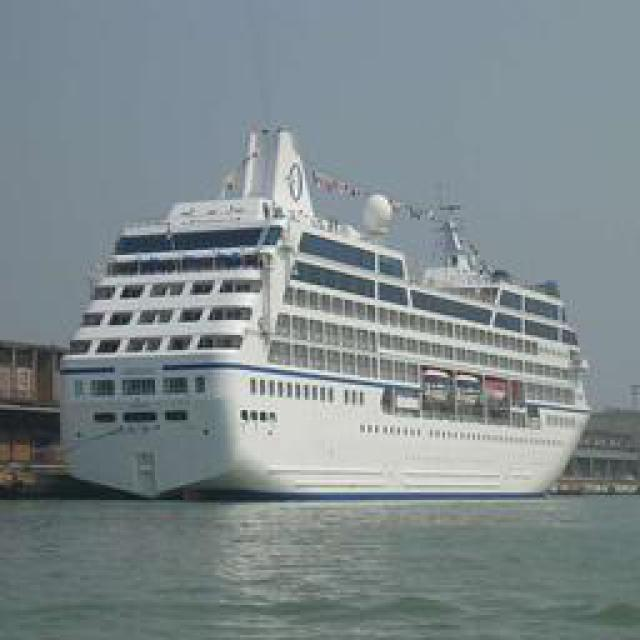Ship: (47, 111, 595, 504)
